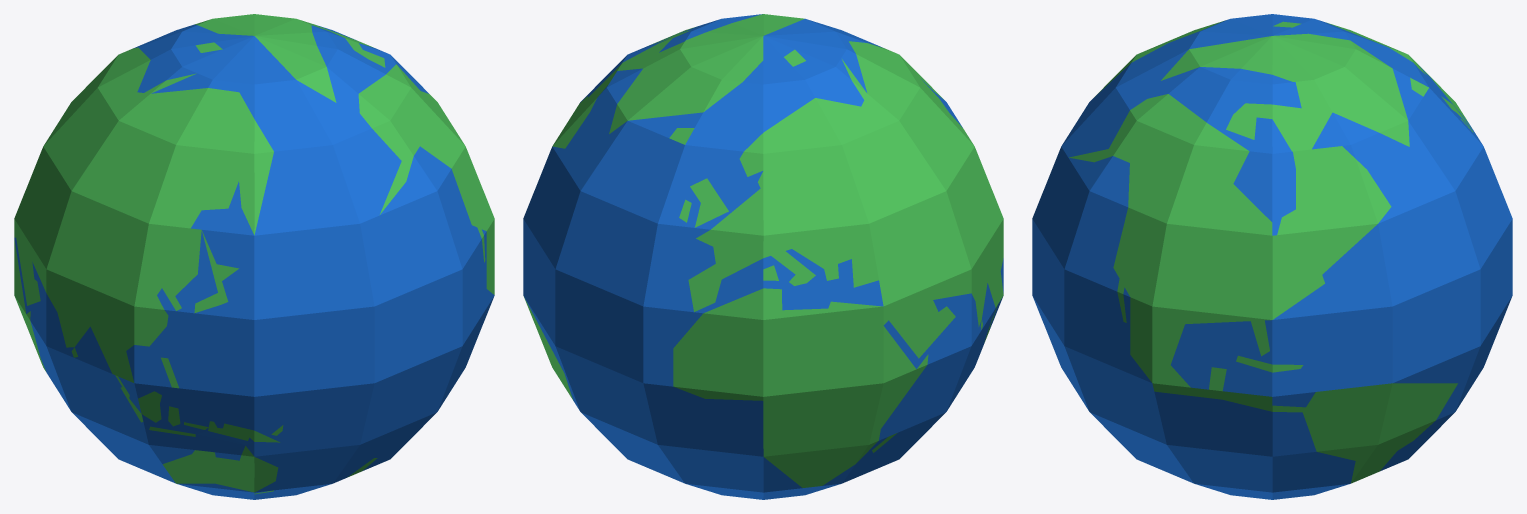
Rendered from earth_globe.obj.
3 views of the same model, side by side, from view 1: azimuth 30°, elevation 25°; view 2: azimuth 150°, elevation 25°; view 3: azimuth 270°, elevation 25° (orthographic).
Visible parts, largest first — view 1: Globe_Ocean, Globe_Continents; view 2: Globe_Continents, Globe_Ocean; view 3: Globe_Ocean, Globe_Continents.
Boxes of the visible parts, x1,y1,x2,y2 form: Globe_Ocean: (14,24,494,499); Globe_Continents: (14,14,494,494); Globe_Continents: (524,14,1003,487); Globe_Ocean: (523,14,1003,499); Globe_Ocean: (1032,14,1512,499); Globe_Continents: (1069,20,1473,483).
Bounding box in the file's own units: 1.37 × 1.39 × 1.37.
